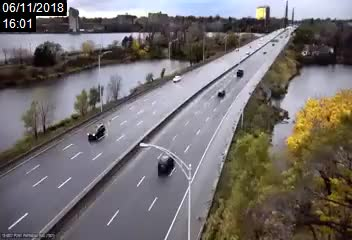personal_car: (157, 153, 175, 176), (86, 122, 107, 139), (216, 87, 226, 97), (172, 74, 181, 83), (236, 68, 244, 78)
